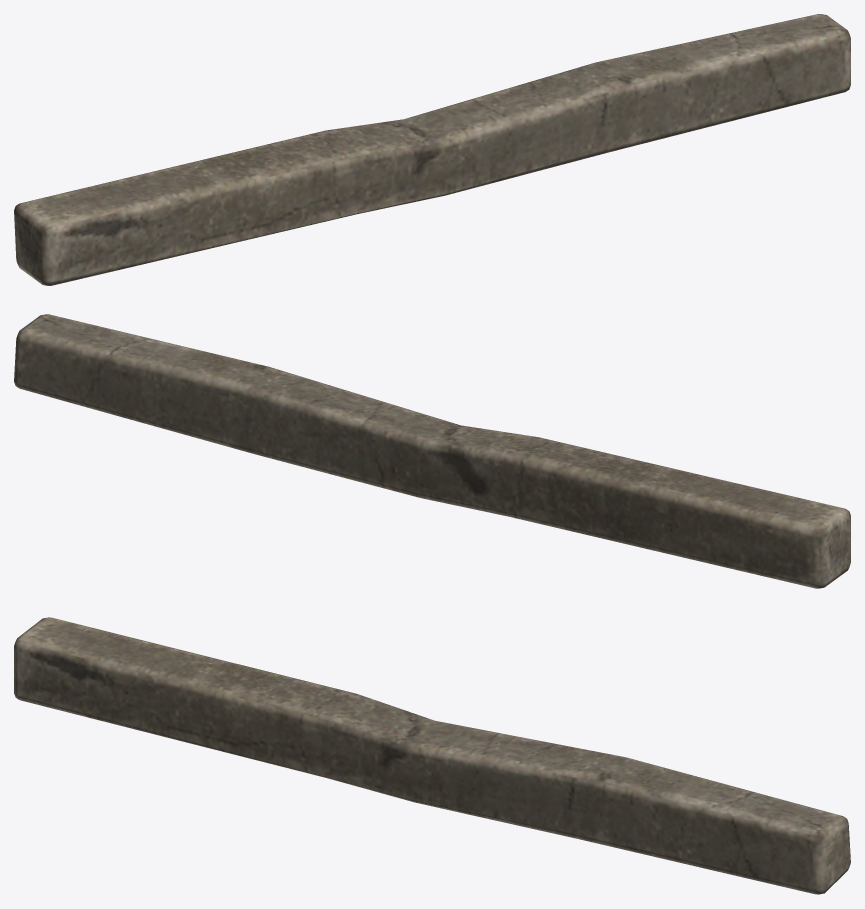
File: Сurbstone_04.fbx
3 renders of one model, top to bottom at view 1: azimuth 30°, elevation 25°; view 2: azimuth 150°, elevation 25°; view 3: azimuth 330°, elevation 25°, orthographic.
Visible parts, largest first — view 1: Сurbstone_04_LOD0; view 2: Сurbstone_04_LOD0; view 3: Сurbstone_04_LOD0.
Boxes of the visible parts, x1,y1,x2,y2 form: Сurbstone_04_LOD0: (14,14,850,285); Сurbstone_04_LOD0: (14,314,850,588); Сurbstone_04_LOD0: (14,617,850,894).
Size of what is drawn, in the model's own units: 200 by 16.93 by 14.71.
